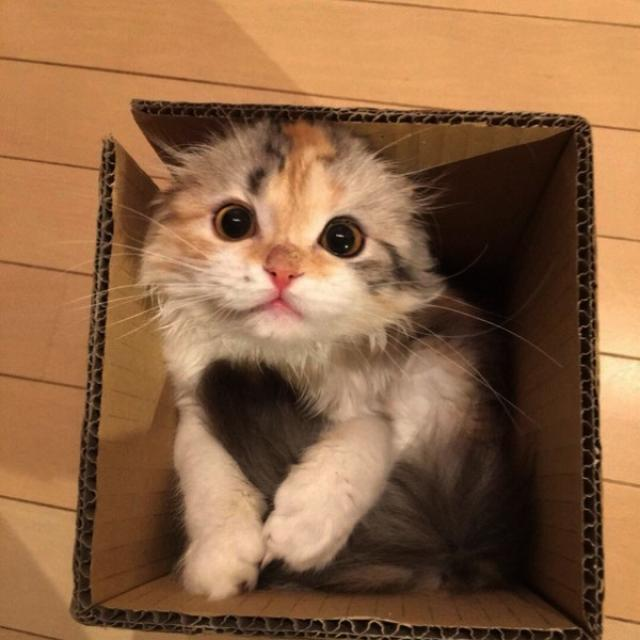da khoe manh: (240, 349, 476, 561)
